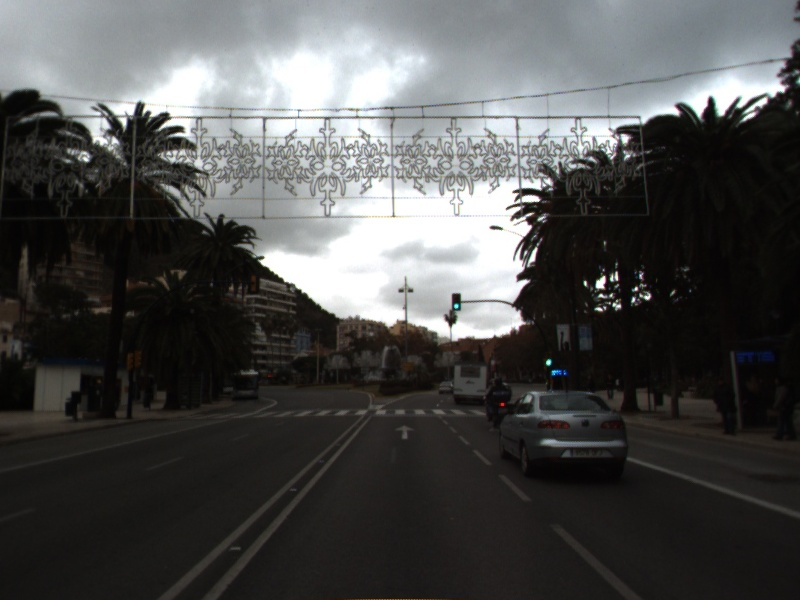STRAIGHT: (393, 423, 417, 441)
